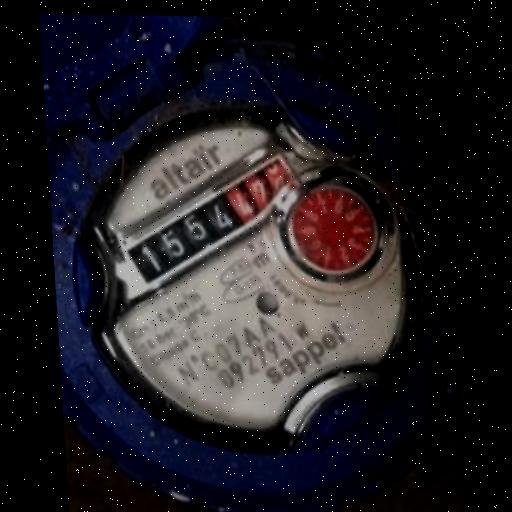1: (125, 233, 172, 284)
4: (197, 190, 242, 241), (220, 178, 260, 226)
5: (172, 204, 219, 255), (149, 218, 194, 269)
6: (253, 156, 294, 202)
7: (238, 166, 279, 212)
border_water_meter_number: (99, 125, 320, 310)
